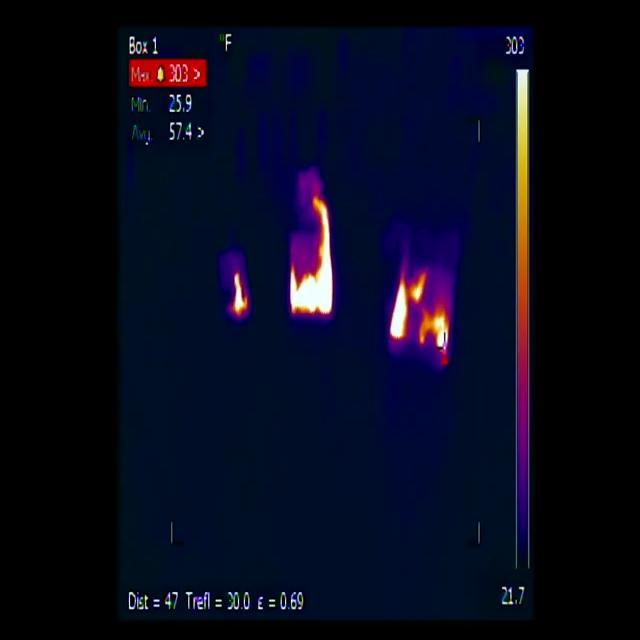fire: (389, 263, 454, 359), (290, 195, 336, 318), (230, 270, 251, 320)
